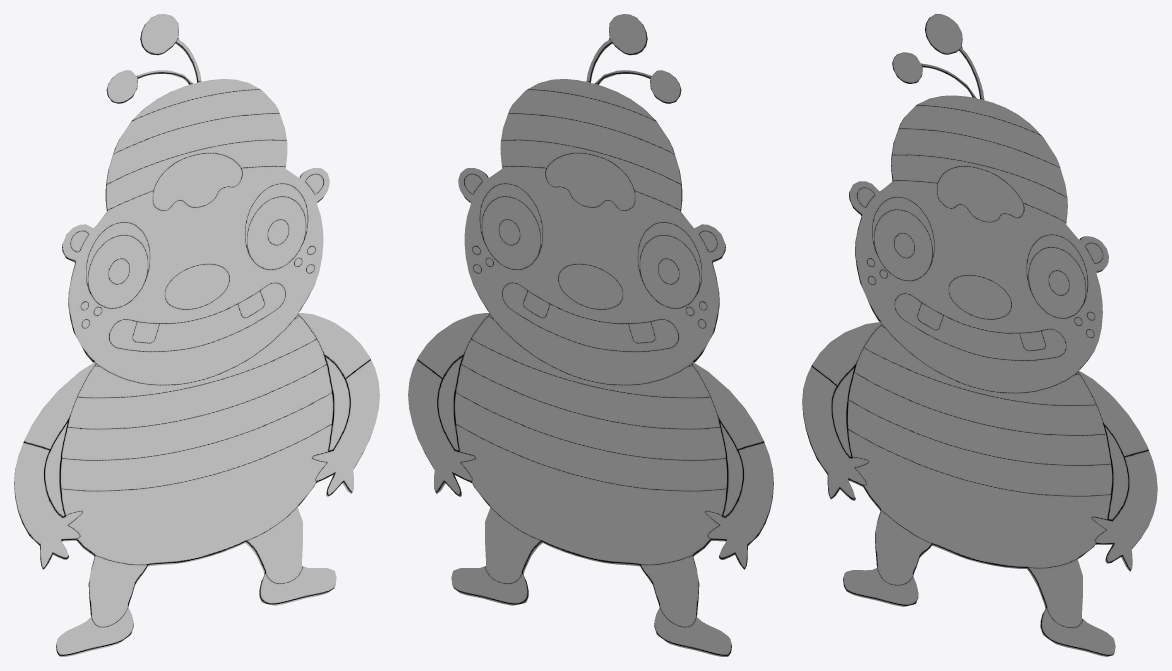
File: 2_wagle-01_fix.fbx
3 views of the same model, side by side, from view 1: azimuth 30°, elevation 25°; view 2: azimuth 150°, elevation 25°; view 3: azimuth 330°, elevation 25° (orthographic). The views are drawn at different scales.
Visible parts, largest first — view 1: planarTrimmedSurface21; view 2: planarTrimmedSurface21; view 3: planarTrimmedSurface21.
Part boxes in pixels (x1,y1,x2,y2): planarTrimmedSurface21: [14, 14, 379, 656]; planarTrimmedSurface21: [408, 14, 773, 656]; planarTrimmedSurface21: [802, 14, 1157, 656].
Size of the model in its own units: 11.49 by 18.62 by 8.14e-07.
1 material, 1 textured.
